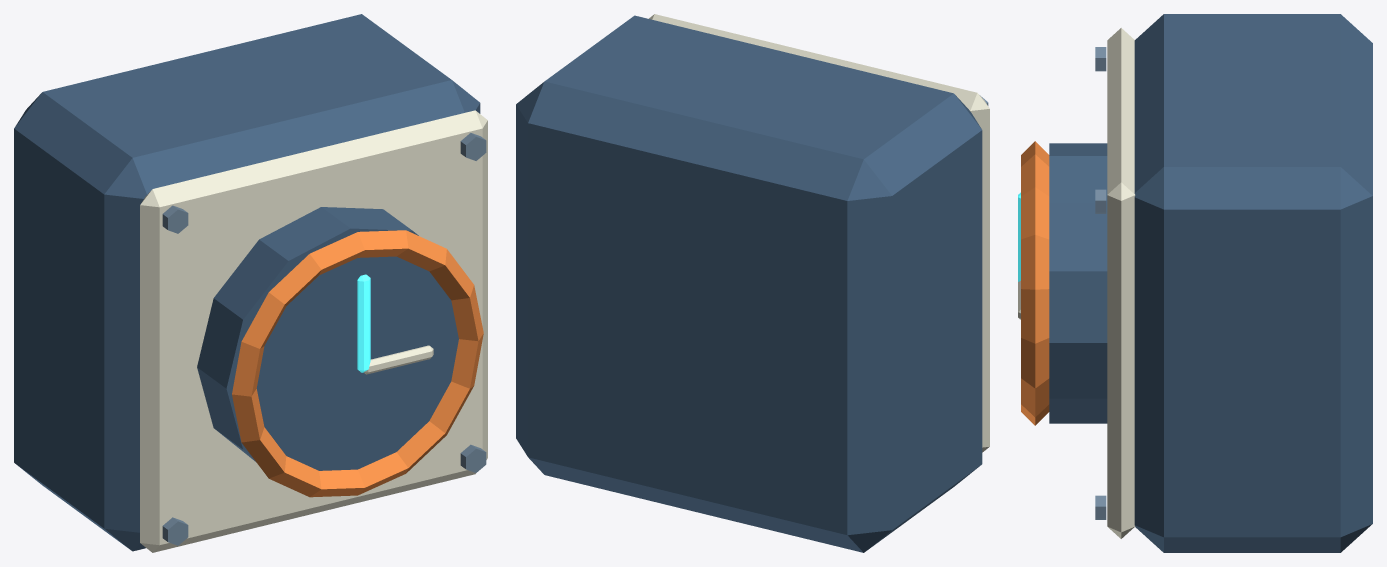
The model's file is delay.glb.
3 renders of one model, left to right at view 1: azimuth 30°, elevation 25°; view 2: azimuth 150°, elevation 25°; view 3: azimuth 270°, elevation 25°, orthographic.
Parts seen in each view (by area): view 1: Structural core.011, Front armor.011, Timer face, Timer bezel, Timer hand, Timer short hand, Rivet.055, Rivet.053, Rivet.054, Rivet.052; view 2: Structural core.011, Front armor.011; view 3: Structural core.011, Timer face, Front armor.011, Timer bezel.
Part boxes in pixels (box(x1,y1,x2,y2)): Structural core.011: box(14, 14, 480, 551); Front armor.011: box(140, 110, 487, 552); Timer face: box(197, 207, 458, 470); Timer bezel: box(232, 230, 483, 497); Timer hand: box(357, 274, 370, 372); Timer short hand: box(364, 345, 433, 374); Rivet.055: box(460, 133, 486, 160); Rivet.053: box(162, 205, 188, 233); Rivet.054: box(460, 444, 486, 472); Rivet.052: box(162, 517, 188, 545); Structural core.011: box(516, 15, 982, 552); Front armor.011: box(649, 14, 989, 452); Structural core.011: box(1134, 14, 1372, 552); Timer face: box(1049, 143, 1107, 423); Front armor.011: box(1107, 28, 1135, 538); Timer bezel: box(1021, 141, 1049, 425).
Size of the model in its own units: 1.06 by 1.06 by 0.8825.
